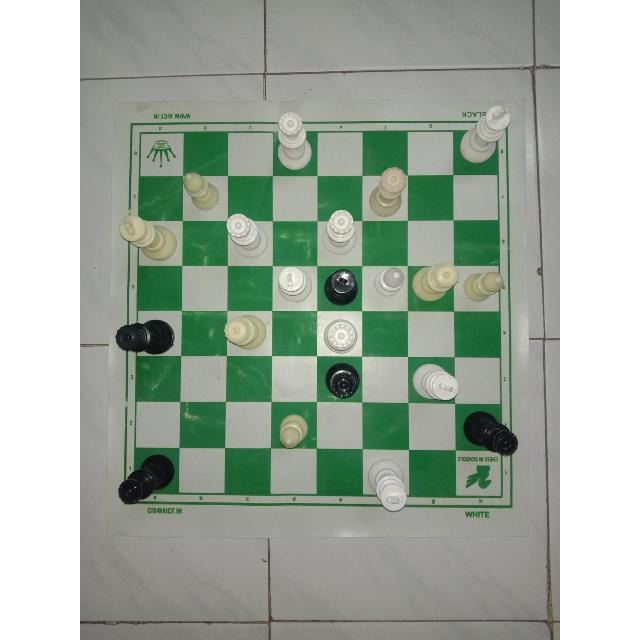black-king: (321, 264, 365, 311)
black-queen: (111, 452, 180, 509), (462, 411, 524, 465), (112, 320, 176, 358), (316, 366, 362, 404)
white-bishop: (179, 166, 223, 216), (462, 264, 508, 308), (369, 263, 412, 307), (270, 408, 314, 450)
white-king: (363, 452, 418, 518), (456, 101, 514, 163), (119, 212, 183, 262), (267, 267, 317, 307), (413, 365, 459, 405)
white-queen: (221, 208, 271, 260), (276, 109, 314, 172), (219, 314, 267, 360), (413, 260, 461, 304), (370, 165, 409, 217), (324, 209, 360, 259), (320, 316, 364, 356)
